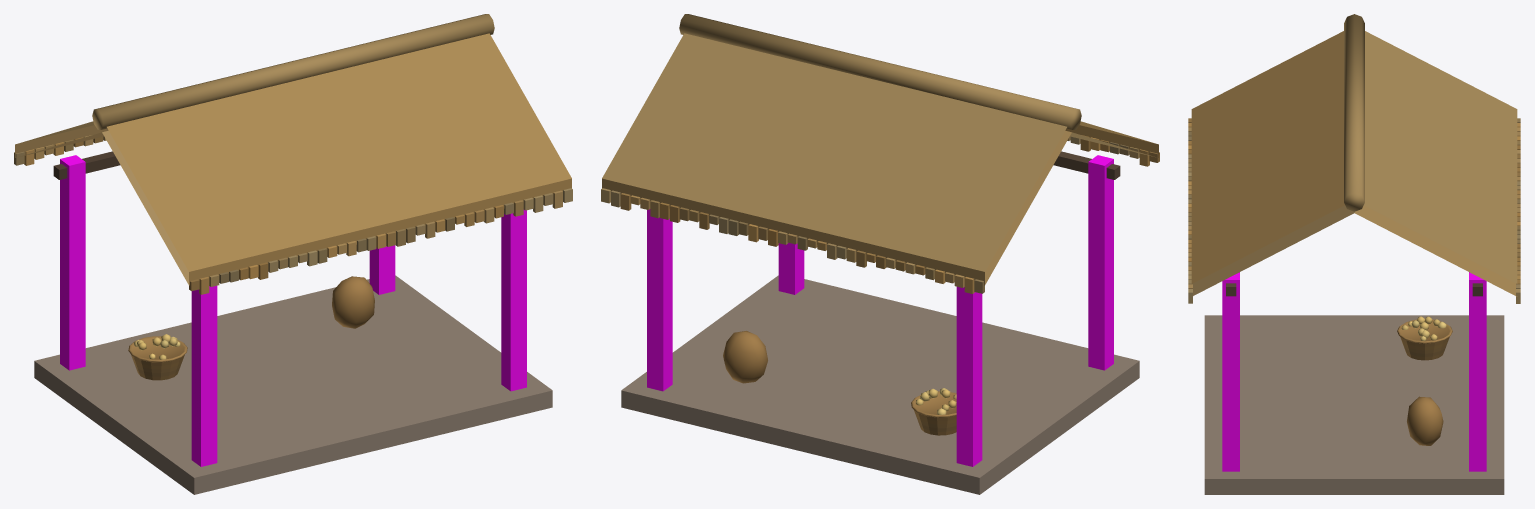
File: ENV_Field_Hut_A.glb
The picture shows the model from 3 angles, left to right: view 1: azimuth 30°, elevation 25°; view 2: azimuth 150°, elevation 25°; view 3: azimuth 270°, elevation 25°; orthographic projection. The views are drawn at different scales.
Visible parts, largest first — view 1: ENV_Field_Hut_A_Roof, ENV_Field_Hut_A_Mesh, COL_Post_-1_1, COL_Post_-1_-1, COL_Post_1_-1, COL_Post_1_1; view 2: ENV_Field_Hut_A_Roof, ENV_Field_Hut_A_Mesh, COL_Post_-1_-1, COL_Post_-1_1, COL_Post_1_1, COL_Post_1_-1; view 3: ENV_Field_Hut_A_Roof, ENV_Field_Hut_A_Mesh, COL_Post_1_1, COL_Post_1_-1.
Part boxes in pixels (x1,y1,x2,y2): ENV_Field_Hut_A_Roof: (14, 14, 572, 294); ENV_Field_Hut_A_Mesh: (34, 151, 552, 494); COL_Post_-1_1: (60, 155, 85, 370); COL_Post_-1_-1: (191, 285, 217, 466); COL_Post_1_-1: (501, 210, 526, 391); COL_Post_1_1: (369, 245, 395, 294); ENV_Field_Hut_A_Roof: (601, 14, 1159, 293); ENV_Field_Hut_A_Mesh: (621, 151, 1139, 494); COL_Post_-1_-1: (1088, 155, 1113, 370); COL_Post_-1_1: (956, 286, 982, 466); COL_Post_1_1: (647, 209, 672, 391); COL_Post_1_-1: (778, 242, 804, 294); ENV_Field_Hut_A_Roof: (1188, 14, 1520, 303); ENV_Field_Hut_A_Mesh: (1204, 283, 1504, 494); COL_Post_1_1: (1469, 272, 1486, 471); COL_Post_1_-1: (1222, 272, 1239, 471).
Size of the model in its own units: 4.8 by 3.88 by 3.77.
